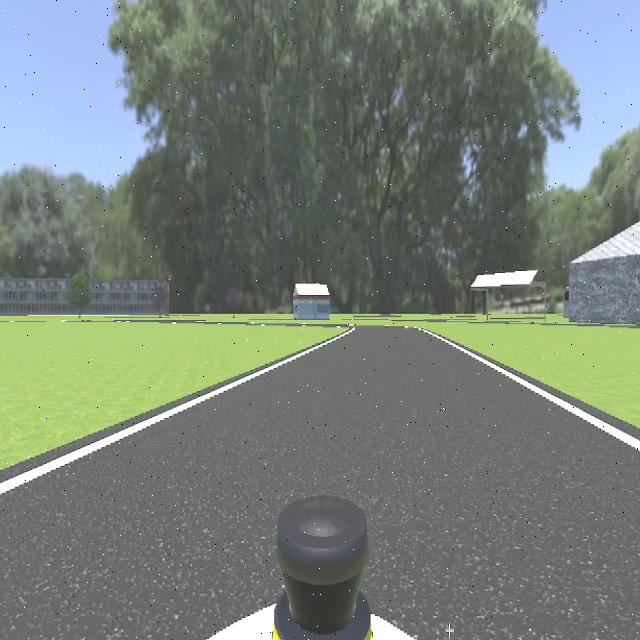road: (0, 329, 640, 640)
solid_line: (0, 330, 352, 498), (422, 330, 640, 454)
